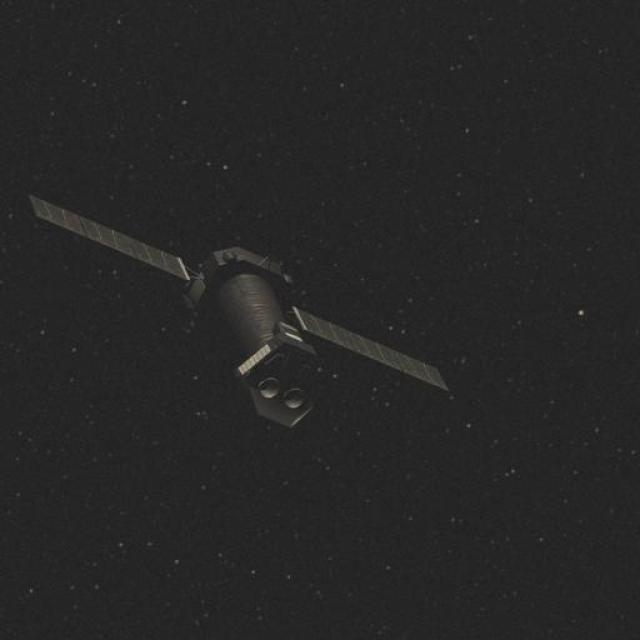xmm_newton: (88, 180, 450, 460)
